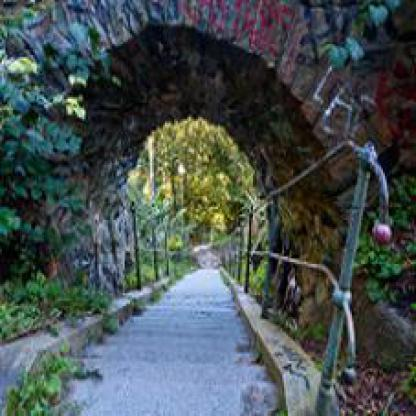stair_down: (50, 310, 282, 414)
